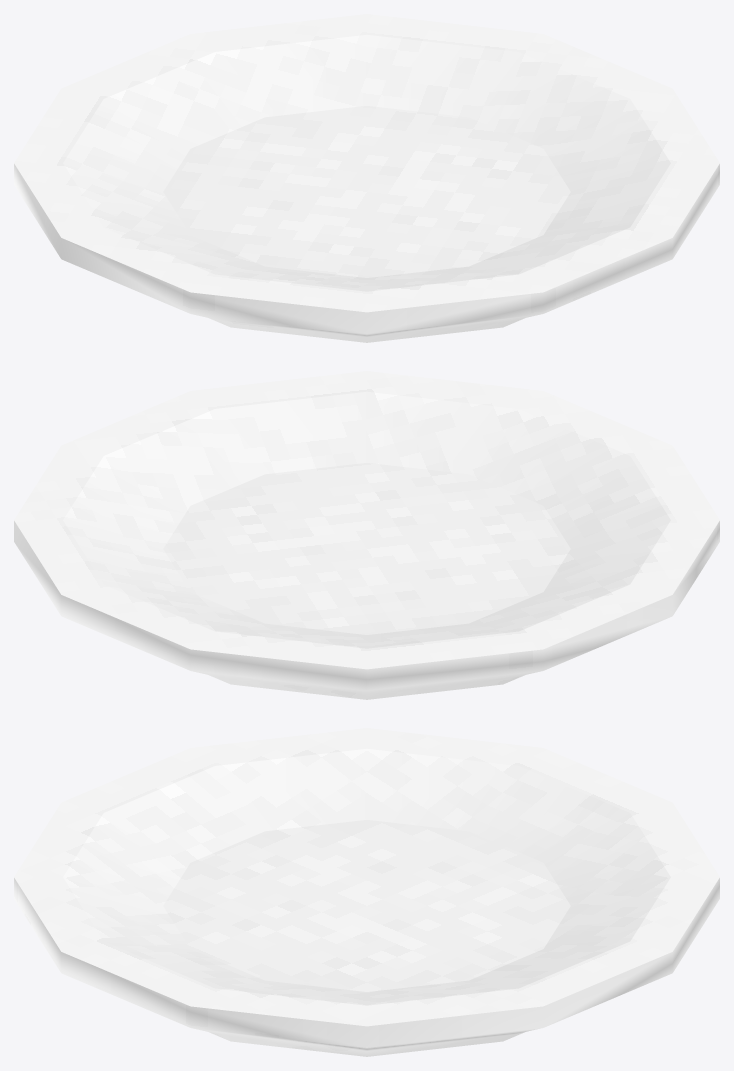
File: Plate.glb
3 renders of one model, top to bottom at view 1: azimuth 30°, elevation 25°; view 2: azimuth 150°, elevation 25°; view 3: azimuth 270°, elevation 25°, orthographic.
Parts seen in each view (by area): view 1: Plate; view 2: Plate; view 3: Plate.
Part boxes in pixels (box(x1,y1,x2,y2)): Plate: box(14, 14, 719, 342); Plate: box(14, 371, 719, 699); Plate: box(14, 728, 719, 1056).
Bounding box in the file's own units: 0.2975 × 0.03 × 0.2975.
1 material, 1 textured.
